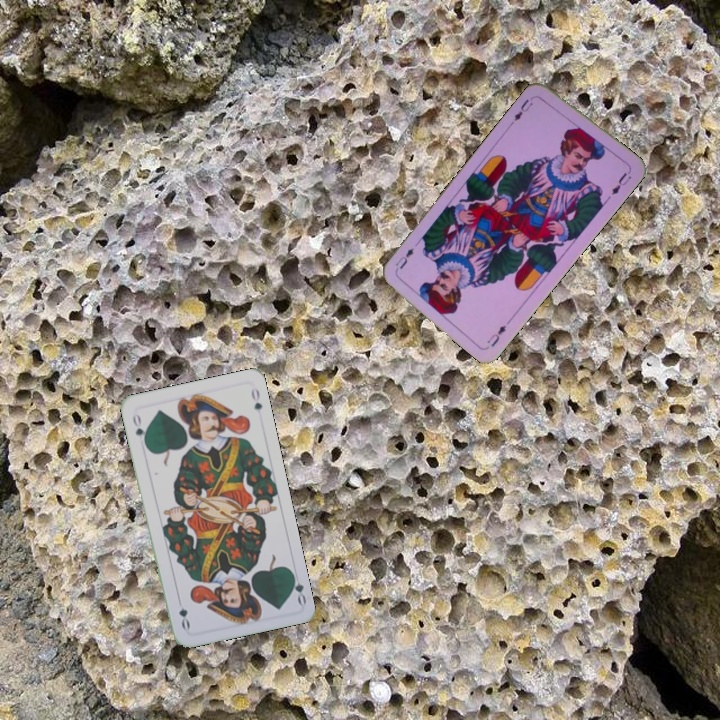EU: (509, 91, 539, 125), (483, 321, 509, 350)
GO: (287, 567, 309, 607), (129, 409, 149, 448)
